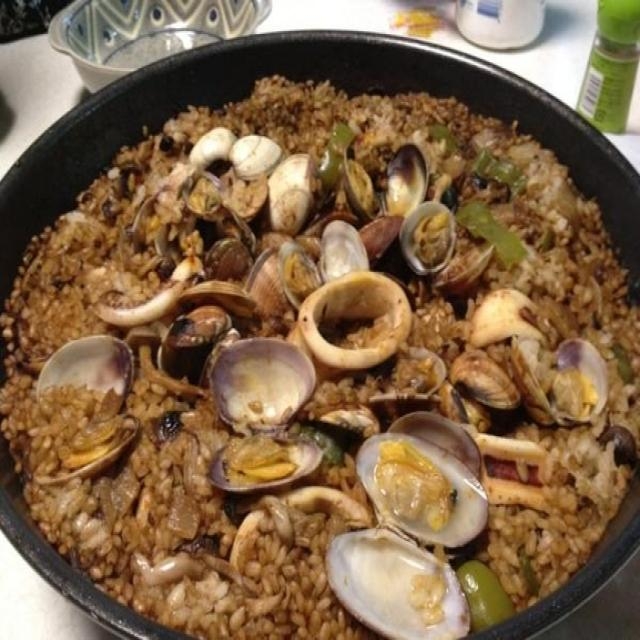炸货点心: (0, 125, 640, 640)
